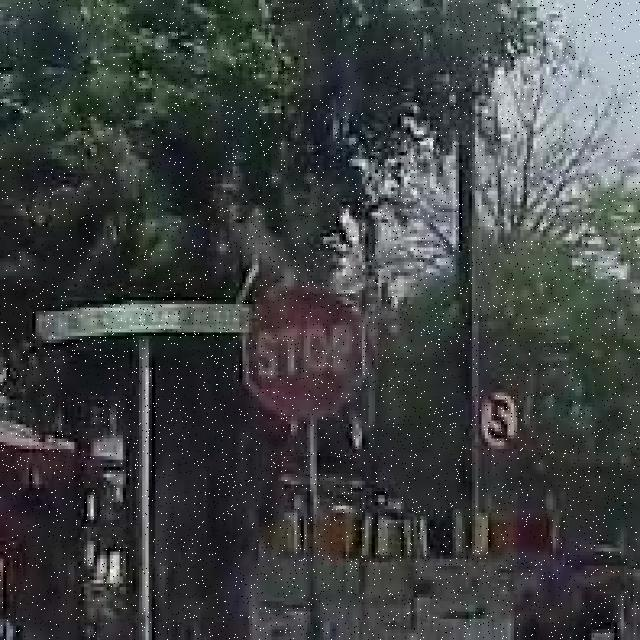Stop: (255, 293, 362, 421)
